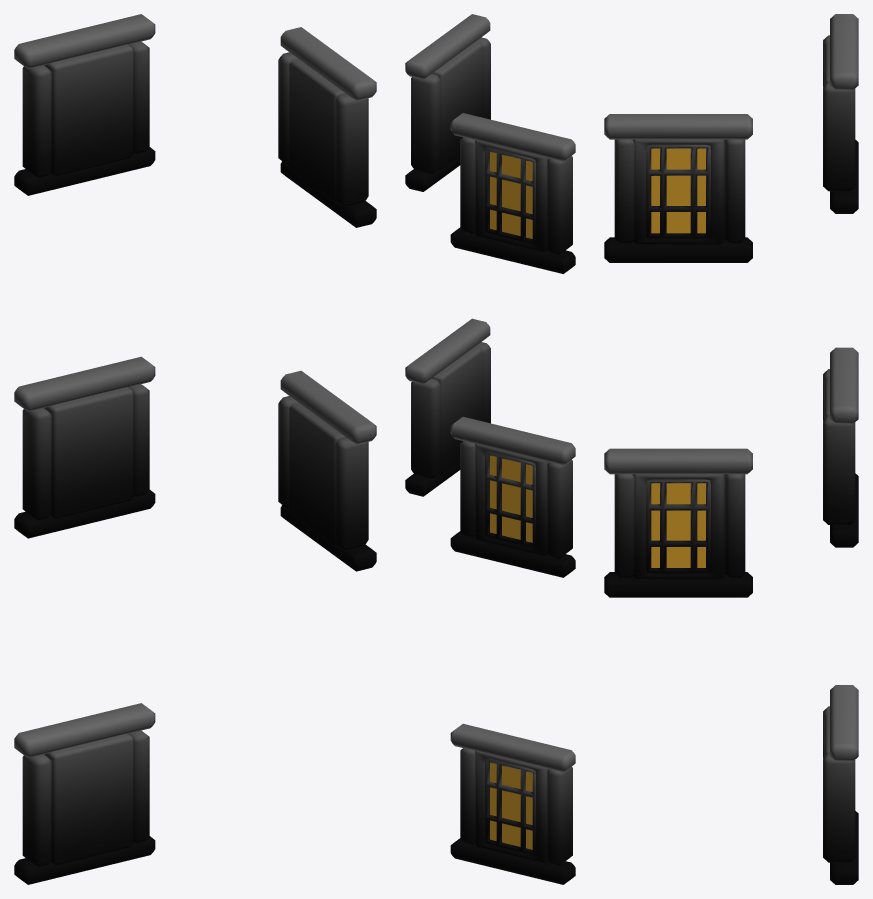
File: SM_Brick_Window_04.fbx
3 views of the same model, side by side, from view 1: azimuth 30°, elevation 25°; view 2: azimuth 150°, elevation 25°; view 3: azimuth 270°, elevation 25° (orthographic). The views are drawn at different scales.
Parts seen in each view (by area): view 1: SM_Brick_Window_04; view 2: SM_Brick_Window_04; view 3: SM_Brick_Window_04.
Part boxes in pixels (x1,y1,x2,y2): SM_Brick_Window_04: (14,14,376,884); SM_Brick_Window_04: (405,14,575,884); SM_Brick_Window_04: (604,14,858,884).
Bounding box in the file's own units: 0.7208 × 2.42 × 0.6856.
